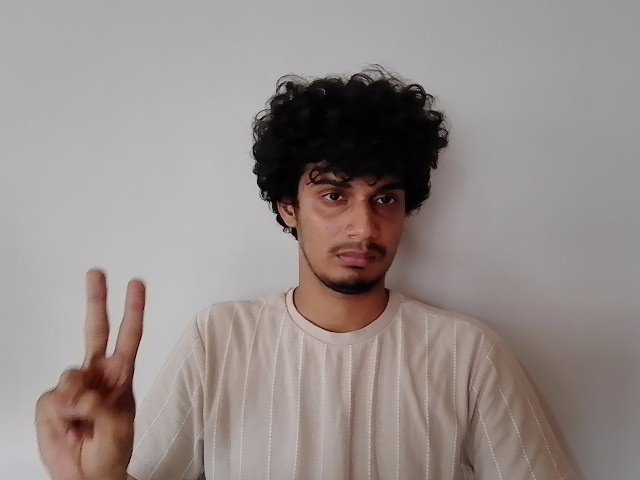travel: (32, 263, 155, 462)
